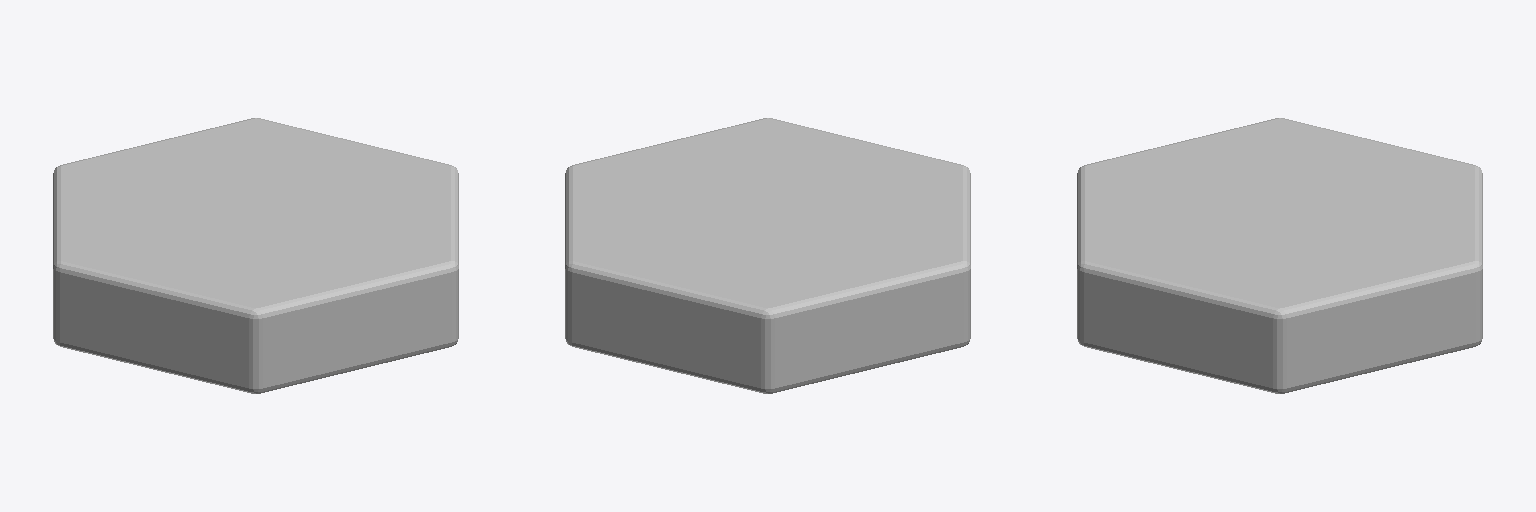
The model's file is hivePrism.obj.
The picture shows the model from 3 angles: view 1: azimuth 30°, elevation 25°; view 2: azimuth 150°, elevation 25°; view 3: azimuth 270°, elevation 25°; orthographic projection.
Visible parts, largest first — view 1: Cylinder_Cylinder.001; view 2: Cylinder_Cylinder.001; view 3: Cylinder_Cylinder.001.
Boxes of the visible parts, box(x1,y1,x2,y2) form: Cylinder_Cylinder.001: box(53, 118, 458, 393); Cylinder_Cylinder.001: box(565, 118, 970, 393); Cylinder_Cylinder.001: box(1077, 118, 1482, 393).
Bounding box in the file's own units: 1.98 × 0.4 × 1.73.